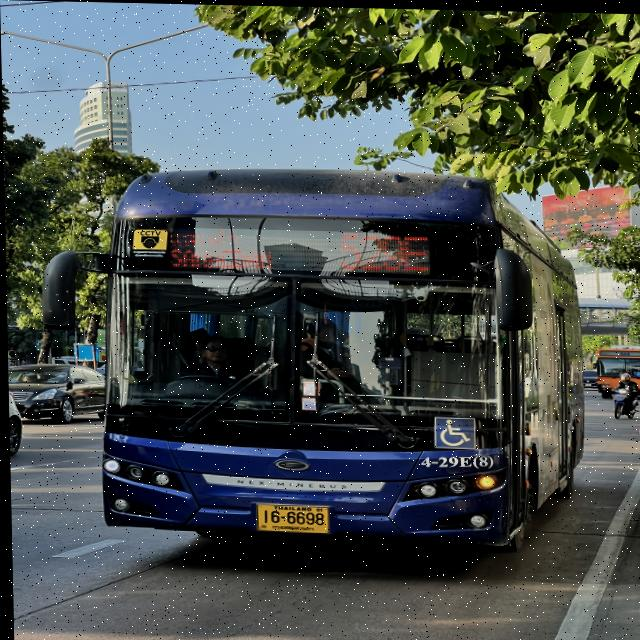BMTA-bus: (592, 340, 640, 397)
Bus-Line-Number: (331, 227, 436, 277), (616, 348, 629, 354)
Destination-Sign-Normal: (166, 224, 276, 271), (632, 368, 640, 374)
TSB-Bus: (86, 160, 592, 563)
